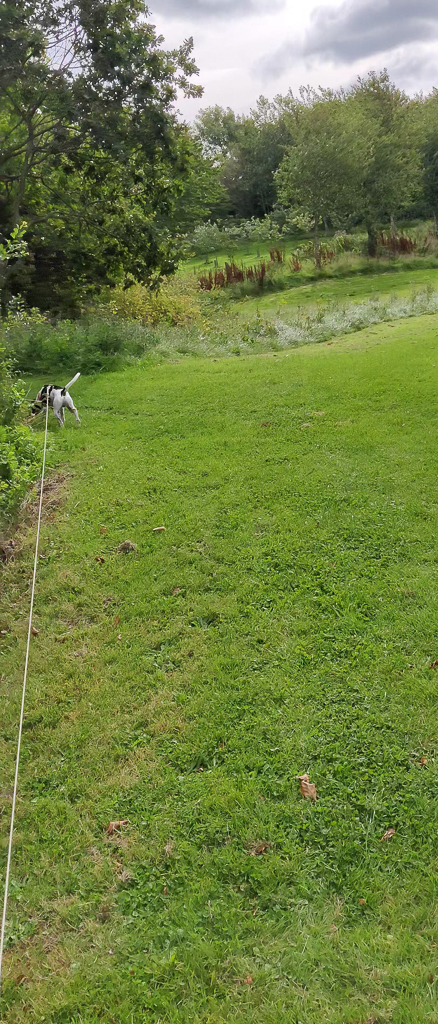Dog: (25, 369, 88, 435)
